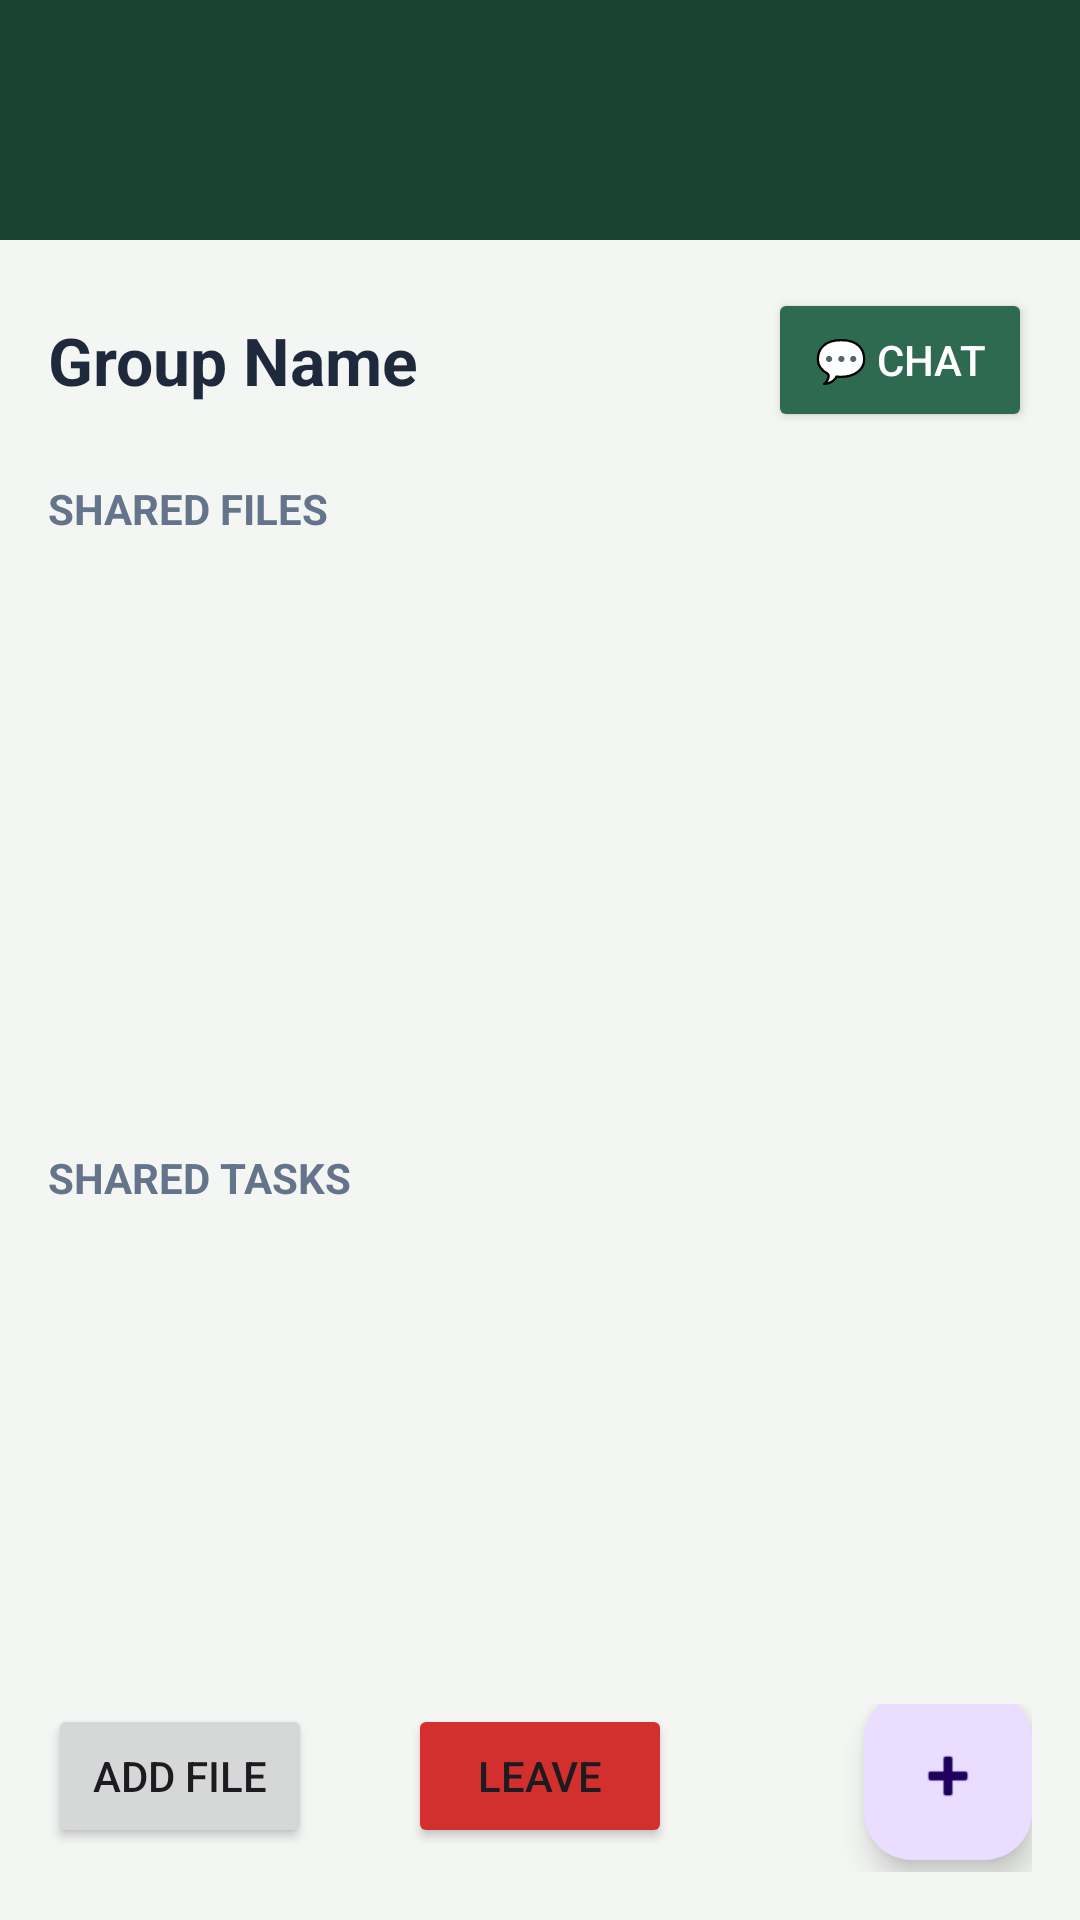

Icons on this 1080*1920 Android screen, each with the point to tap as (x=x, y=y):
add: (x=948, y=1782)
